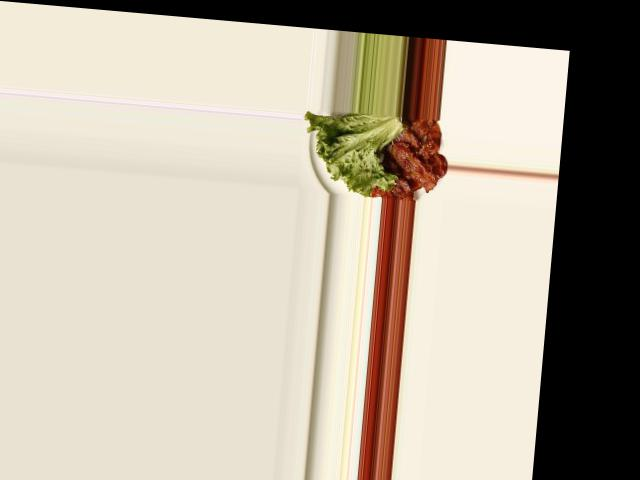lettuce: (303, 107, 403, 197)
